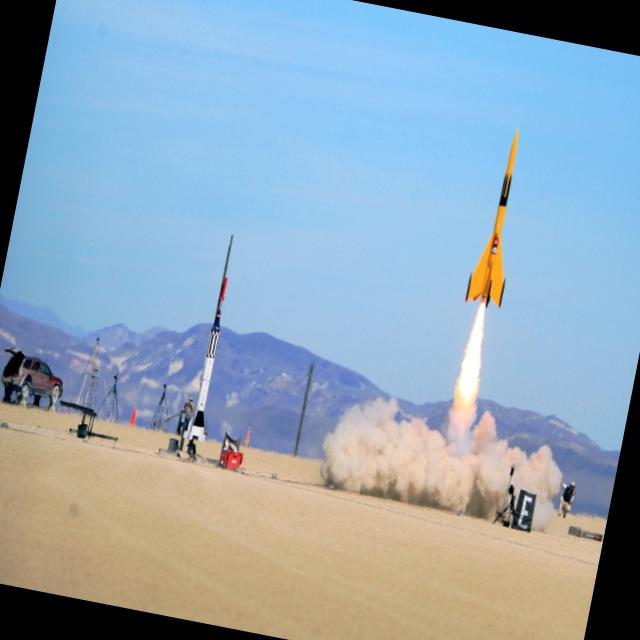rocket: (433, 118, 541, 461), (185, 227, 243, 430)
